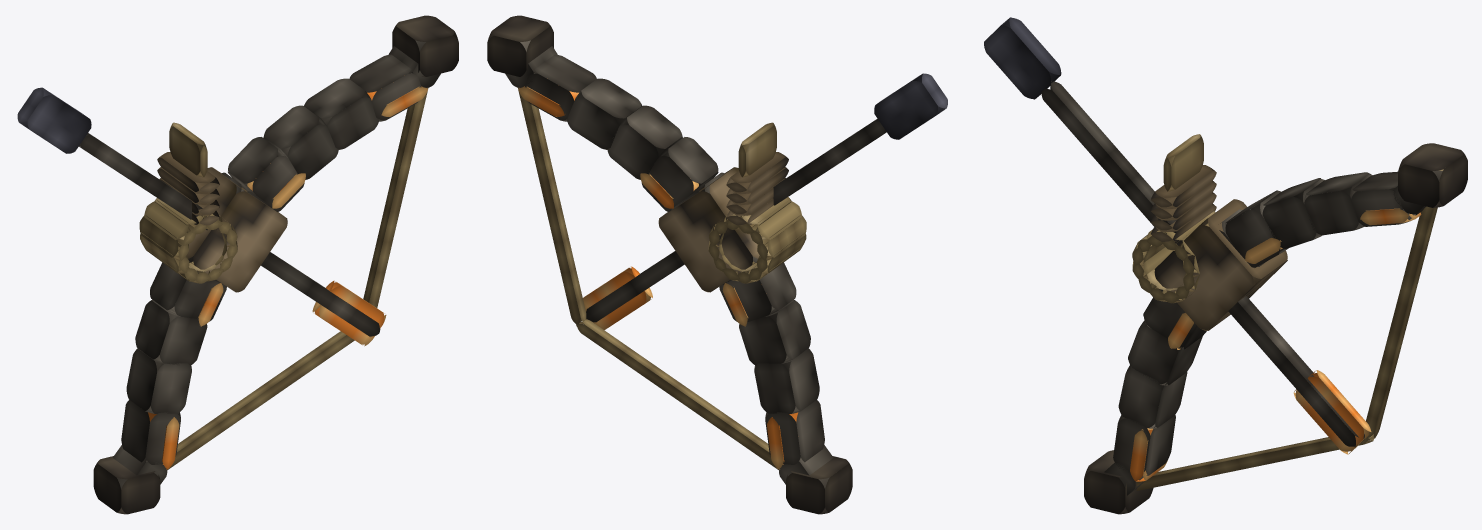
File: noose_bow_pulling_2.obj
The picture shows the model from 3 angles, left to right: view 1: azimuth 30°, elevation 25°; view 2: azimuth 150°, elevation 25°; view 3: azimuth 330°, elevation 25°; orthographic projection. The views are drawn at different scales.
Visible parts, largest first — view 1: lit, fire; view 2: lit, fire; view 3: lit, fire.
Boxes of the visible parts, x1,y1,x2,y2 form: lit: (17,15,458,514); fire: (148,86,427,469); lit: (487,15,947,514); fire: (518,86,798,469); lit: (984,17,1467,514); fire: (1130,208,1421,481).
Size of the model in its own units: 0.9752 by 0.9475 by 0.1625.
